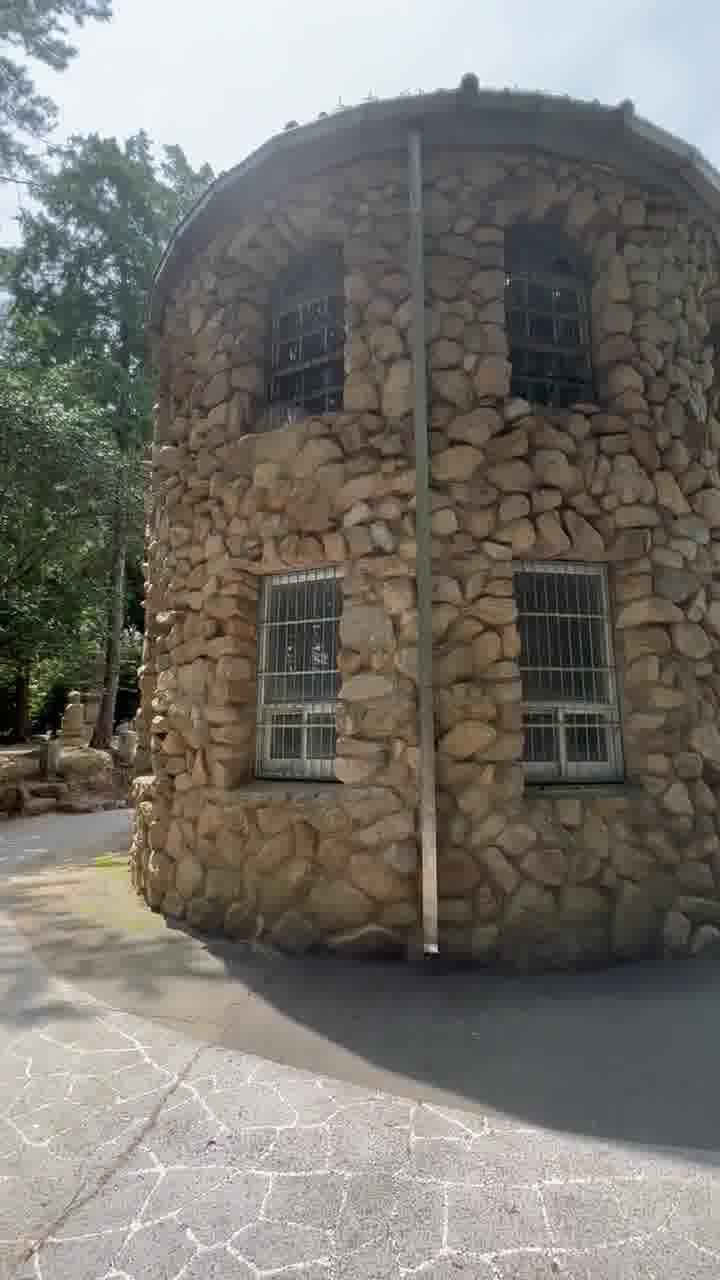building: (152, 96, 720, 960)
